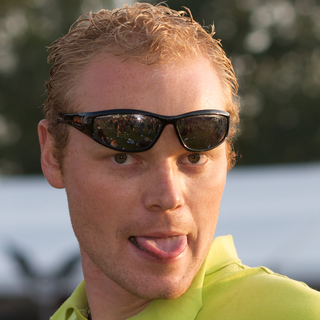eye: (97, 147, 148, 173), (172, 146, 213, 173)
